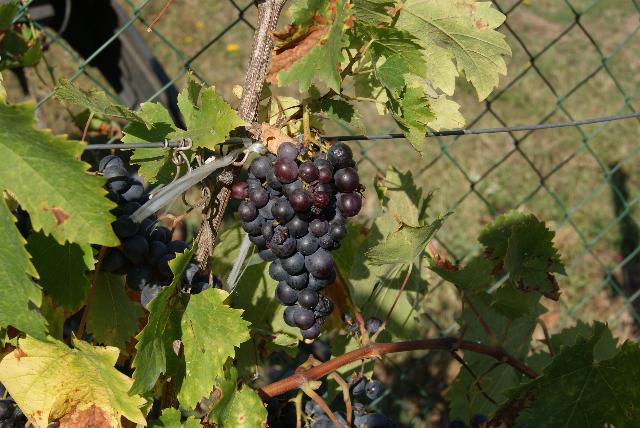grapes: (231, 141, 361, 340), (99, 155, 189, 291), (352, 404, 395, 428), (311, 414, 338, 428), (334, 411, 346, 428)
